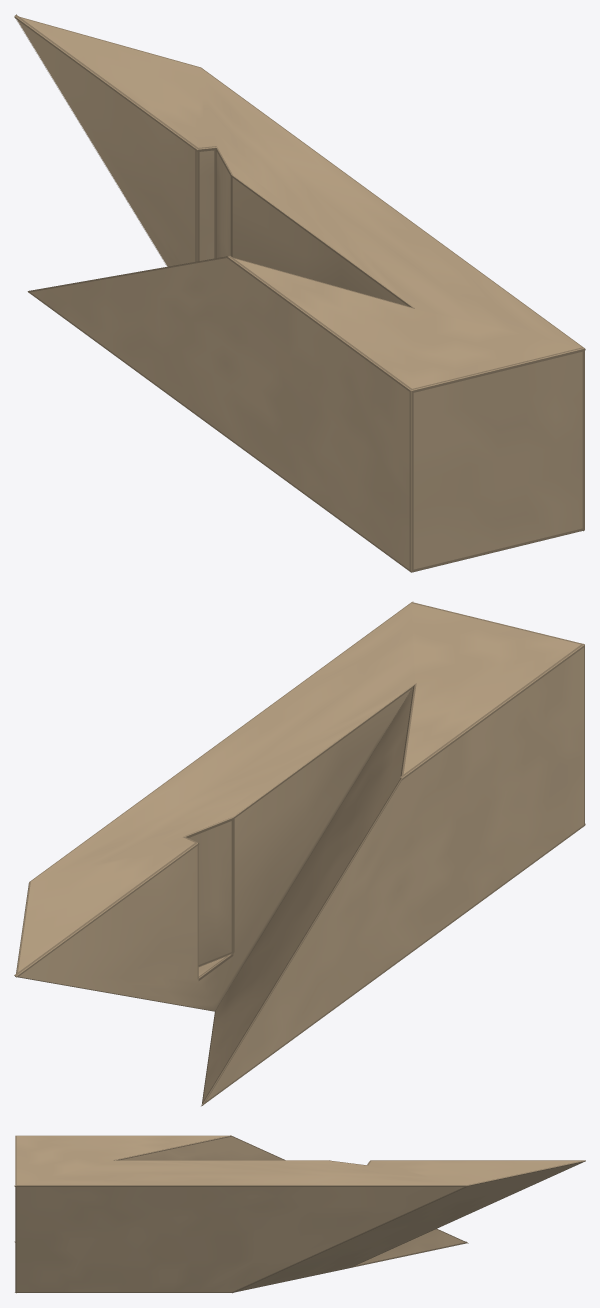
3 renders of one model, top to bottom at view 1: azimuth 30°, elevation 25°; view 2: azimuth 150°, elevation 25°; view 3: azimuth 270°, elevation 25°, orthographic. The views are drawn at different scales.
Parts seen in each view (by area): view 1: part-a; view 2: part-a; view 3: part-a.
Boxes of the visible parts, x1=… form: part-a: x1=14, y1=14, x2=585, y2=572; part-a: x1=14, y1=601, x2=585, y2=1106; part-a: x1=14, y1=1135, x2=585, y2=1293.
Size of the model in its own units: 0.1209 by 0.1221 by 0.5815.
